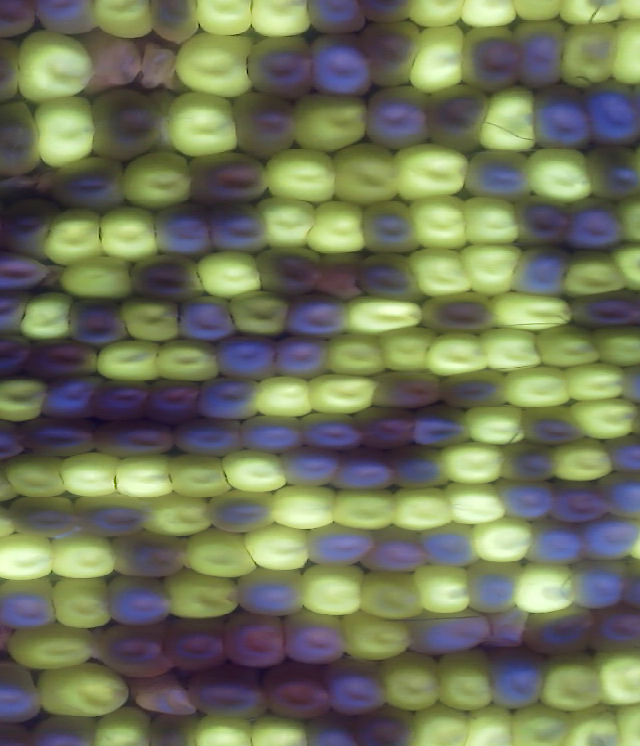fluorescent: (12, 26, 100, 108), (172, 29, 264, 106), (31, 658, 135, 722), (162, 87, 247, 163), (116, 144, 204, 215), (289, 88, 374, 159), (31, 91, 102, 176), (326, 137, 408, 210), (474, 82, 546, 158), (389, 139, 472, 203), (0, 620, 104, 671), (161, 564, 249, 624), (555, 16, 626, 90), (521, 145, 602, 208), (259, 144, 340, 207), (536, 649, 611, 716), (408, 19, 470, 98), (112, 288, 188, 352), (180, 524, 265, 581), (354, 563, 432, 625), (375, 648, 448, 712), (480, 288, 577, 336), (338, 291, 434, 339), (455, 237, 529, 299), (194, 245, 268, 307), (404, 192, 475, 256), (558, 243, 635, 302), (40, 203, 107, 270), (45, 527, 125, 583), (296, 559, 367, 622), (299, 195, 371, 257), (90, 202, 162, 264), (56, 252, 140, 305), (433, 645, 496, 715), (339, 609, 417, 665), (47, 572, 118, 633), (472, 322, 549, 378), (253, 191, 321, 254), (530, 320, 606, 376), (326, 484, 403, 539), (137, 491, 220, 542), (404, 242, 478, 299), (457, 191, 526, 252), (265, 481, 344, 534), (225, 286, 295, 345), (304, 366, 381, 419), (241, 521, 315, 576), (511, 560, 581, 618), (432, 437, 509, 489), (0, 450, 71, 506), (93, 332, 164, 388), (162, 448, 238, 500), (322, 327, 393, 382), (420, 328, 495, 380), (150, 334, 225, 386), (373, 325, 445, 379), (110, 451, 183, 504), (456, 398, 527, 452), (401, 699, 482, 746), (469, 514, 540, 567), (409, 560, 476, 616), (498, 363, 576, 411), (57, 447, 124, 502), (387, 483, 455, 537), (560, 358, 632, 409), (217, 446, 292, 494), (15, 286, 77, 344), (502, 700, 580, 746), (250, 371, 320, 422), (549, 434, 619, 485), (444, 477, 512, 529), (568, 394, 640, 443), (0, 531, 60, 586), (589, 645, 640, 708), (559, 702, 628, 746), (86, 1, 160, 41), (0, 371, 52, 427), (602, 14, 640, 89), (587, 320, 640, 373), (455, 702, 518, 746), (246, 1, 314, 41), (189, 1, 260, 39), (606, 239, 640, 294)
nonfluorescent: (86, 82, 166, 166), (418, 78, 497, 159), (178, 660, 276, 724), (230, 86, 301, 169), (258, 654, 340, 725), (180, 148, 275, 209), (92, 619, 183, 680), (523, 80, 598, 154), (362, 81, 435, 156), (355, 15, 426, 91), (242, 34, 318, 105), (401, 607, 499, 662), (48, 151, 129, 216), (306, 27, 376, 100), (483, 639, 548, 717), (218, 607, 295, 672), (107, 526, 193, 584), (102, 570, 178, 635), (454, 23, 524, 93), (10, 412, 106, 463), (464, 142, 537, 209), (412, 288, 504, 341), (277, 608, 356, 669), (91, 414, 187, 464), (353, 522, 436, 579), (558, 193, 632, 256), (524, 602, 601, 662), (188, 369, 269, 426), (303, 518, 384, 575), (159, 617, 236, 676), (19, 331, 102, 385), (124, 249, 208, 302), (512, 17, 572, 91), (0, 573, 67, 639), (504, 241, 574, 304), (557, 555, 634, 612), (203, 195, 276, 255), (64, 292, 137, 352), (581, 77, 640, 151), (321, 653, 389, 717), (516, 401, 595, 456), (0, 492, 85, 543), (349, 247, 426, 303), (458, 557, 532, 615), (432, 364, 516, 415), (366, 367, 451, 417), (74, 489, 157, 540), (151, 199, 219, 261), (324, 443, 403, 496), (232, 566, 314, 617), (211, 329, 285, 385), (489, 473, 563, 529), (168, 414, 252, 463), (204, 486, 280, 540), (291, 408, 373, 458), (123, 675, 205, 725), (519, 516, 594, 570), (252, 244, 324, 300), (489, 437, 565, 490), (409, 398, 478, 456), (0, 193, 59, 260), (381, 440, 457, 492), (357, 198, 425, 256), (350, 402, 423, 456), (544, 474, 614, 530), (0, 94, 45, 181), (573, 511, 640, 569), (34, 371, 107, 424), (138, 371, 207, 427), (283, 286, 354, 340), (173, 292, 242, 347), (512, 192, 577, 250), (269, 328, 336, 383), (84, 375, 157, 424), (273, 443, 350, 489), (419, 516, 484, 570), (587, 142, 640, 208), (312, 246, 369, 307), (0, 656, 47, 729), (142, 1, 208, 51), (240, 412, 313, 457), (584, 600, 640, 658), (25, 1, 109, 39), (572, 287, 640, 333), (477, 606, 540, 653), (352, 701, 416, 746), (297, 1, 370, 40), (594, 466, 640, 526), (0, 246, 48, 297), (0, 414, 35, 470), (0, 329, 36, 382), (602, 430, 640, 480), (0, 286, 34, 338), (0, 1, 38, 42)
